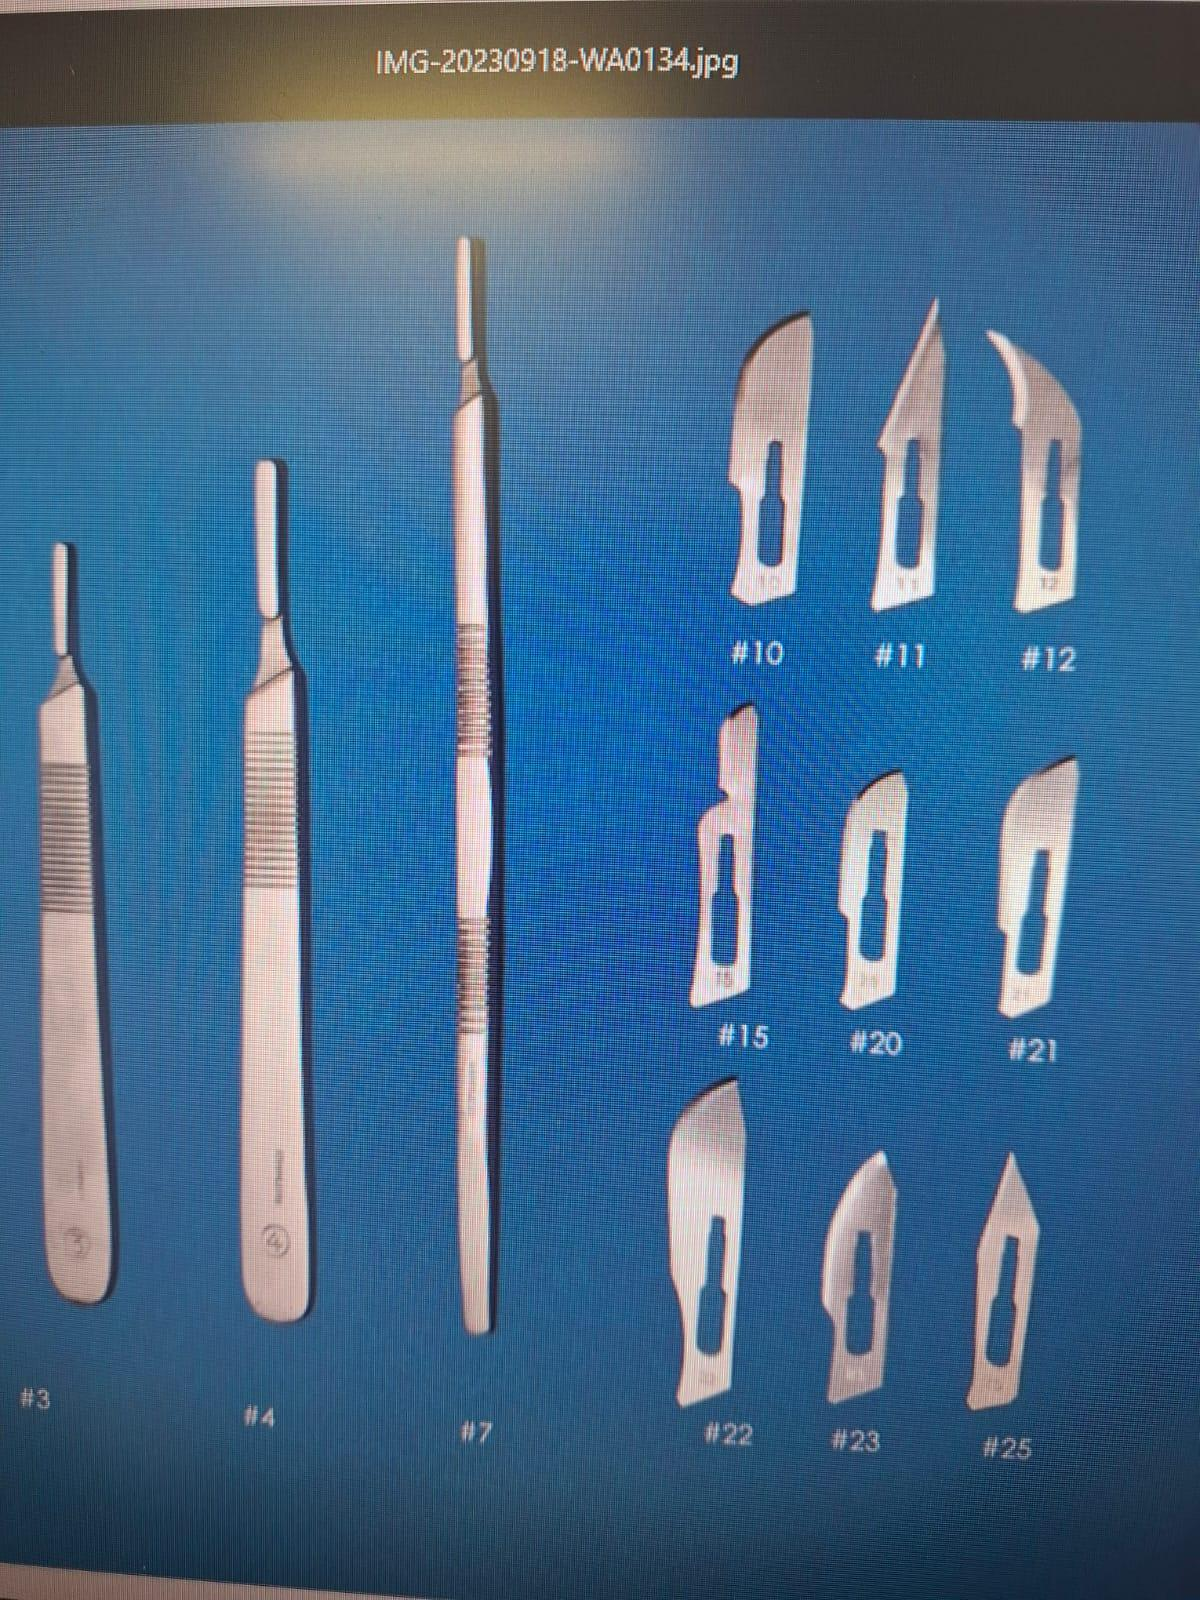Knife Blade: (648, 1067, 793, 1405), (705, 295, 839, 625), (979, 317, 1113, 627), (973, 750, 1111, 1020), (865, 285, 973, 622), (958, 1123, 1073, 1435), (816, 745, 940, 1028), (805, 1133, 915, 1420)
Knife Handle: (15, 515, 155, 1320), (223, 440, 345, 1335)
